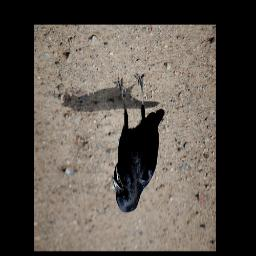Crow: (111, 74, 165, 213)
